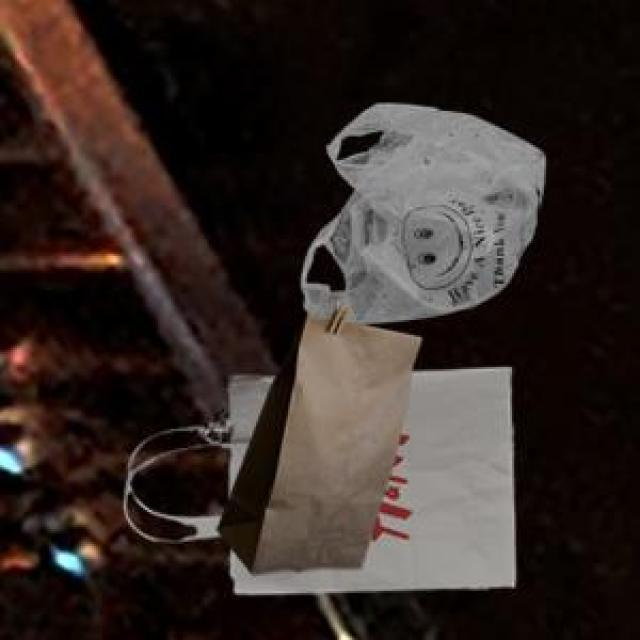paper: (123, 363, 512, 589), (213, 299, 416, 570)
